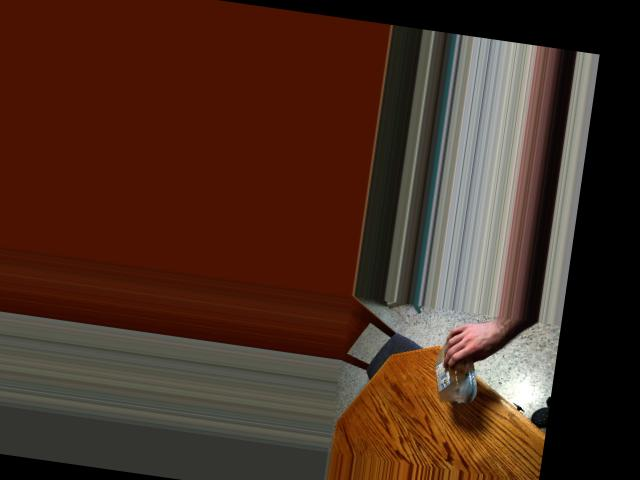cheese: (430, 325, 490, 394)
